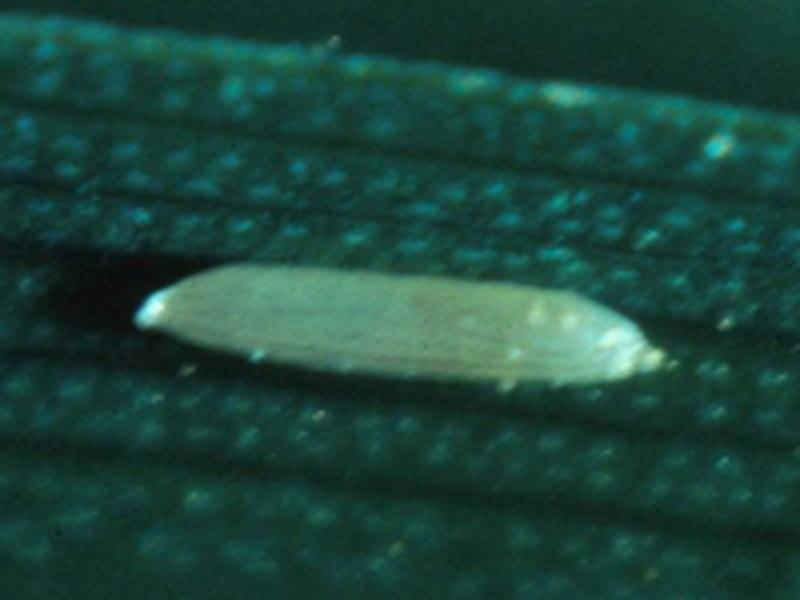Whorl_maggot: (132, 250, 686, 407)
